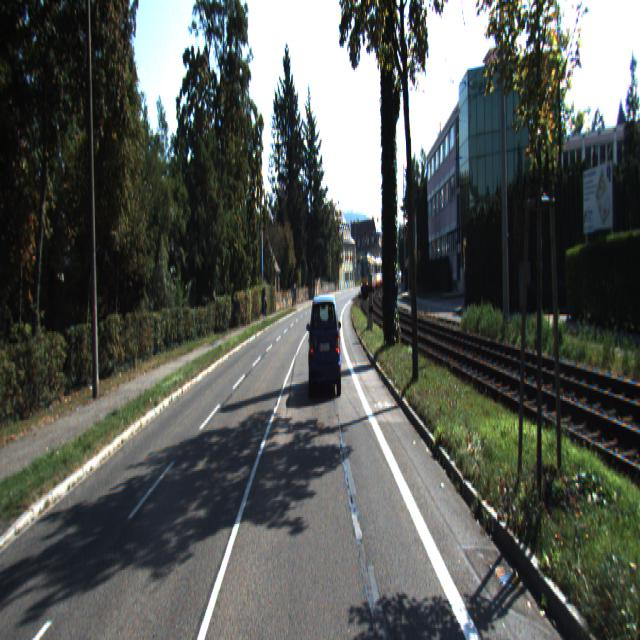Car: (308, 292, 342, 401)
